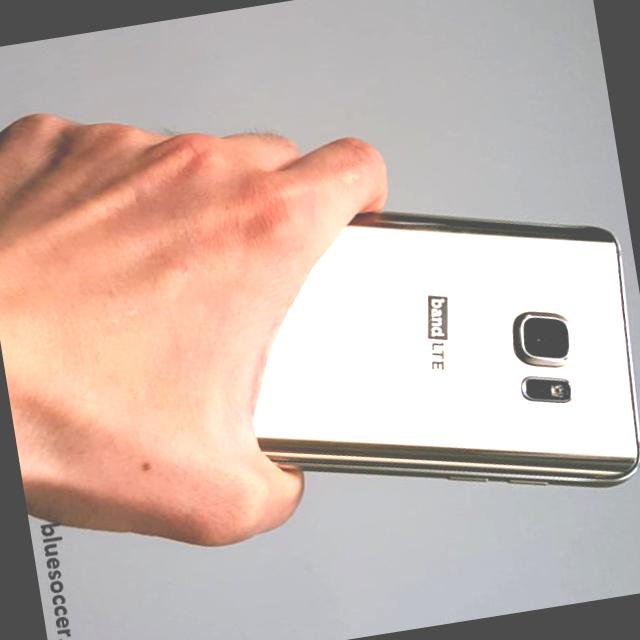lens_back: (505, 302, 578, 374)
phone: (222, 162, 640, 543)
